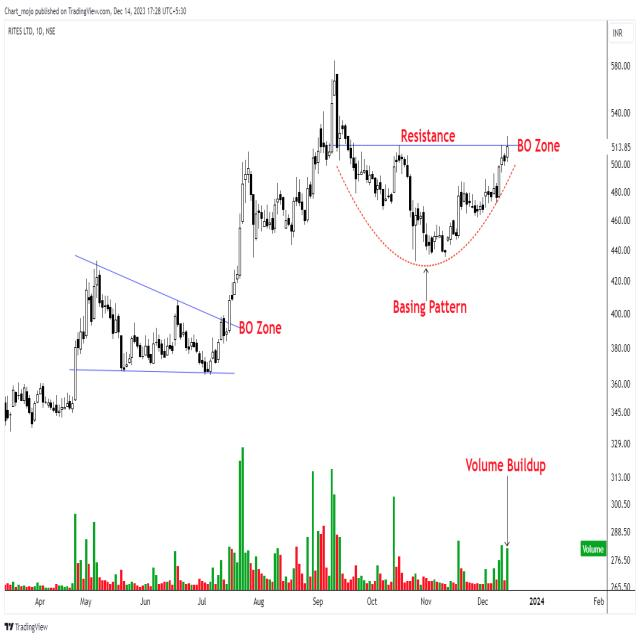Descending-Triangle: (66, 252, 268, 374)
